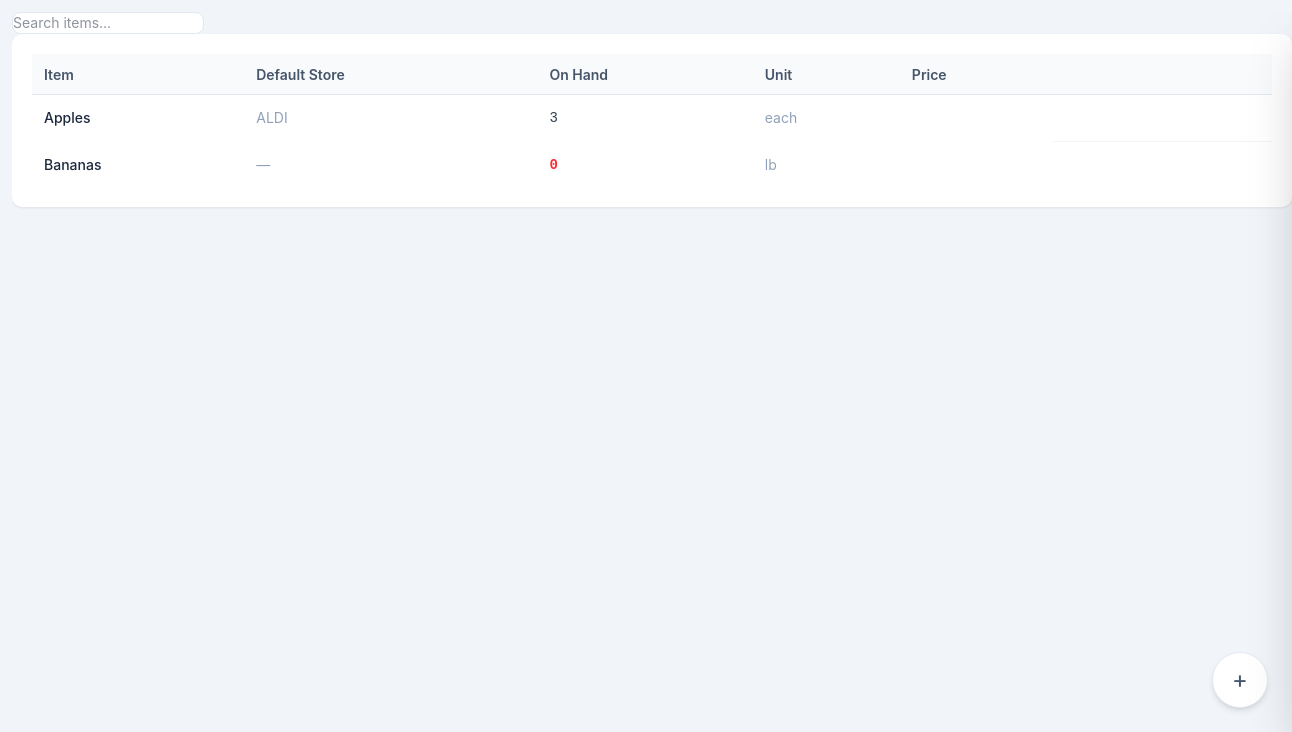
Test case: OnHandView — search › shows no-results message when search has no matches
This screenshot has width=1292, height=732.
Expected: the text "Apples" is shown, [32,95,244,141]
In the search field with placeholder "Search items…": (108, 23) [12,12,204,34], type "xyz"
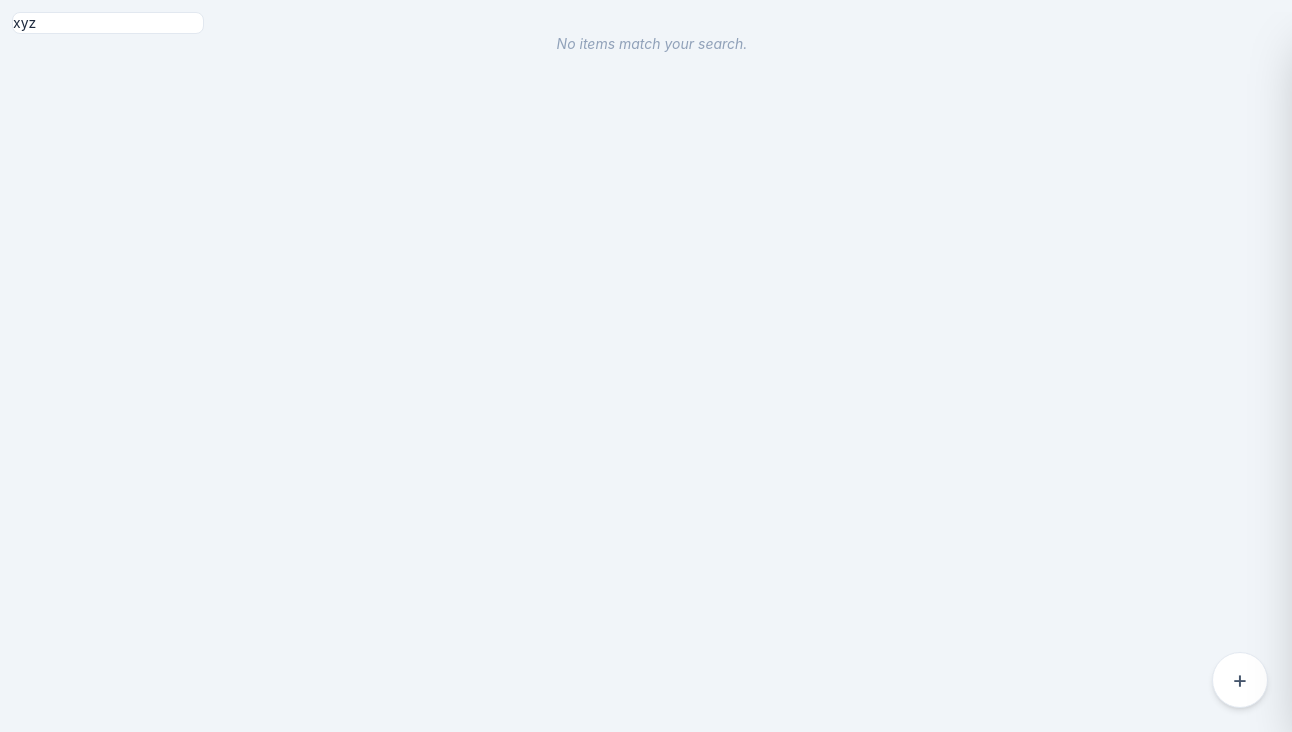
Now the text "No items match your search." is shown, box [557,35,747,52]
